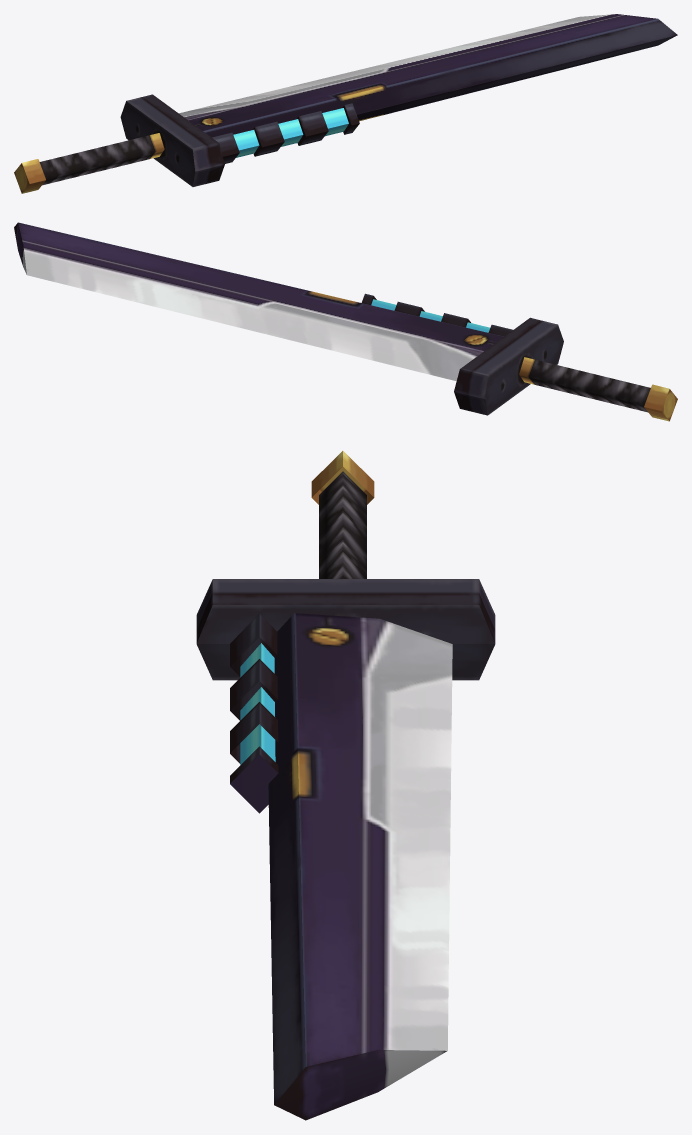
The model's file is weapon.FBX.
3 views of the same model, one above another, from view 1: azimuth 30°, elevation 25°; view 2: azimuth 150°, elevation 25°; view 3: azimuth 270°, elevation 25° (orthographic). The views are drawn at different scales.
Visible parts, largest first — view 1: blade_LV1; view 2: blade_LV1; view 3: blade_LV1.
Part boxes in pixels (x1=…): blade_LV1: x1=14, y1=14, x2=677, y2=193; blade_LV1: x1=14, y1=222, x2=677, y2=421; blade_LV1: x1=196, y1=451, x2=495, y2=1120.
Size of the model in its own units: 22.7 by 1.28 by 4.6.
